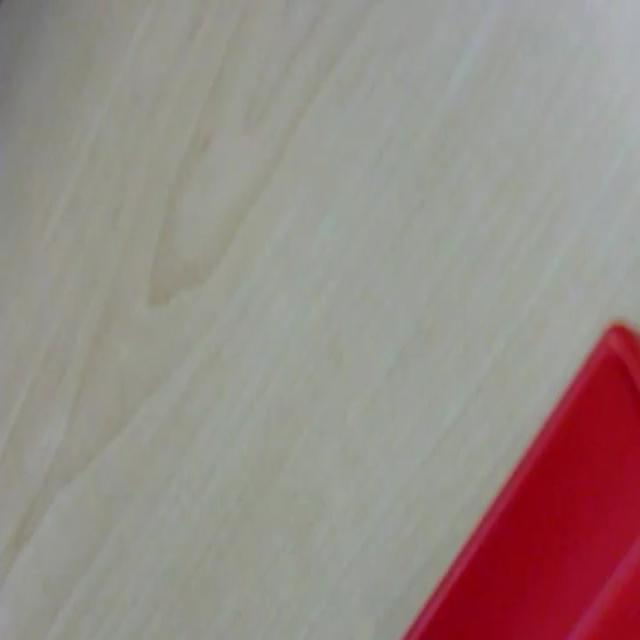red_block: (400, 318, 638, 638)
